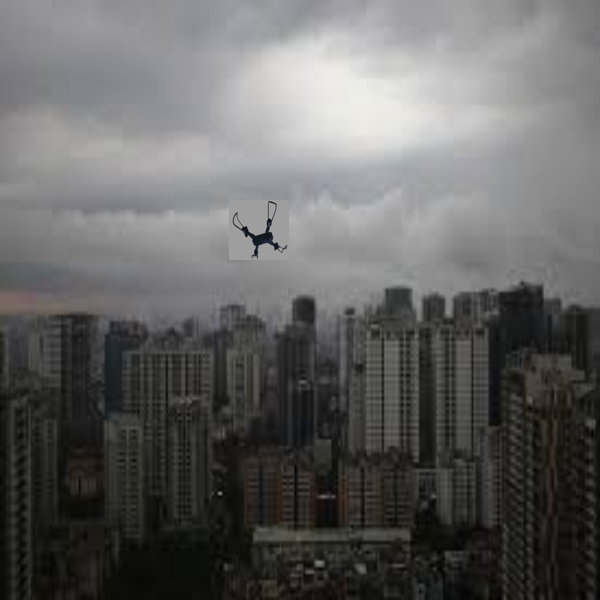drone: (227, 197, 287, 258)
